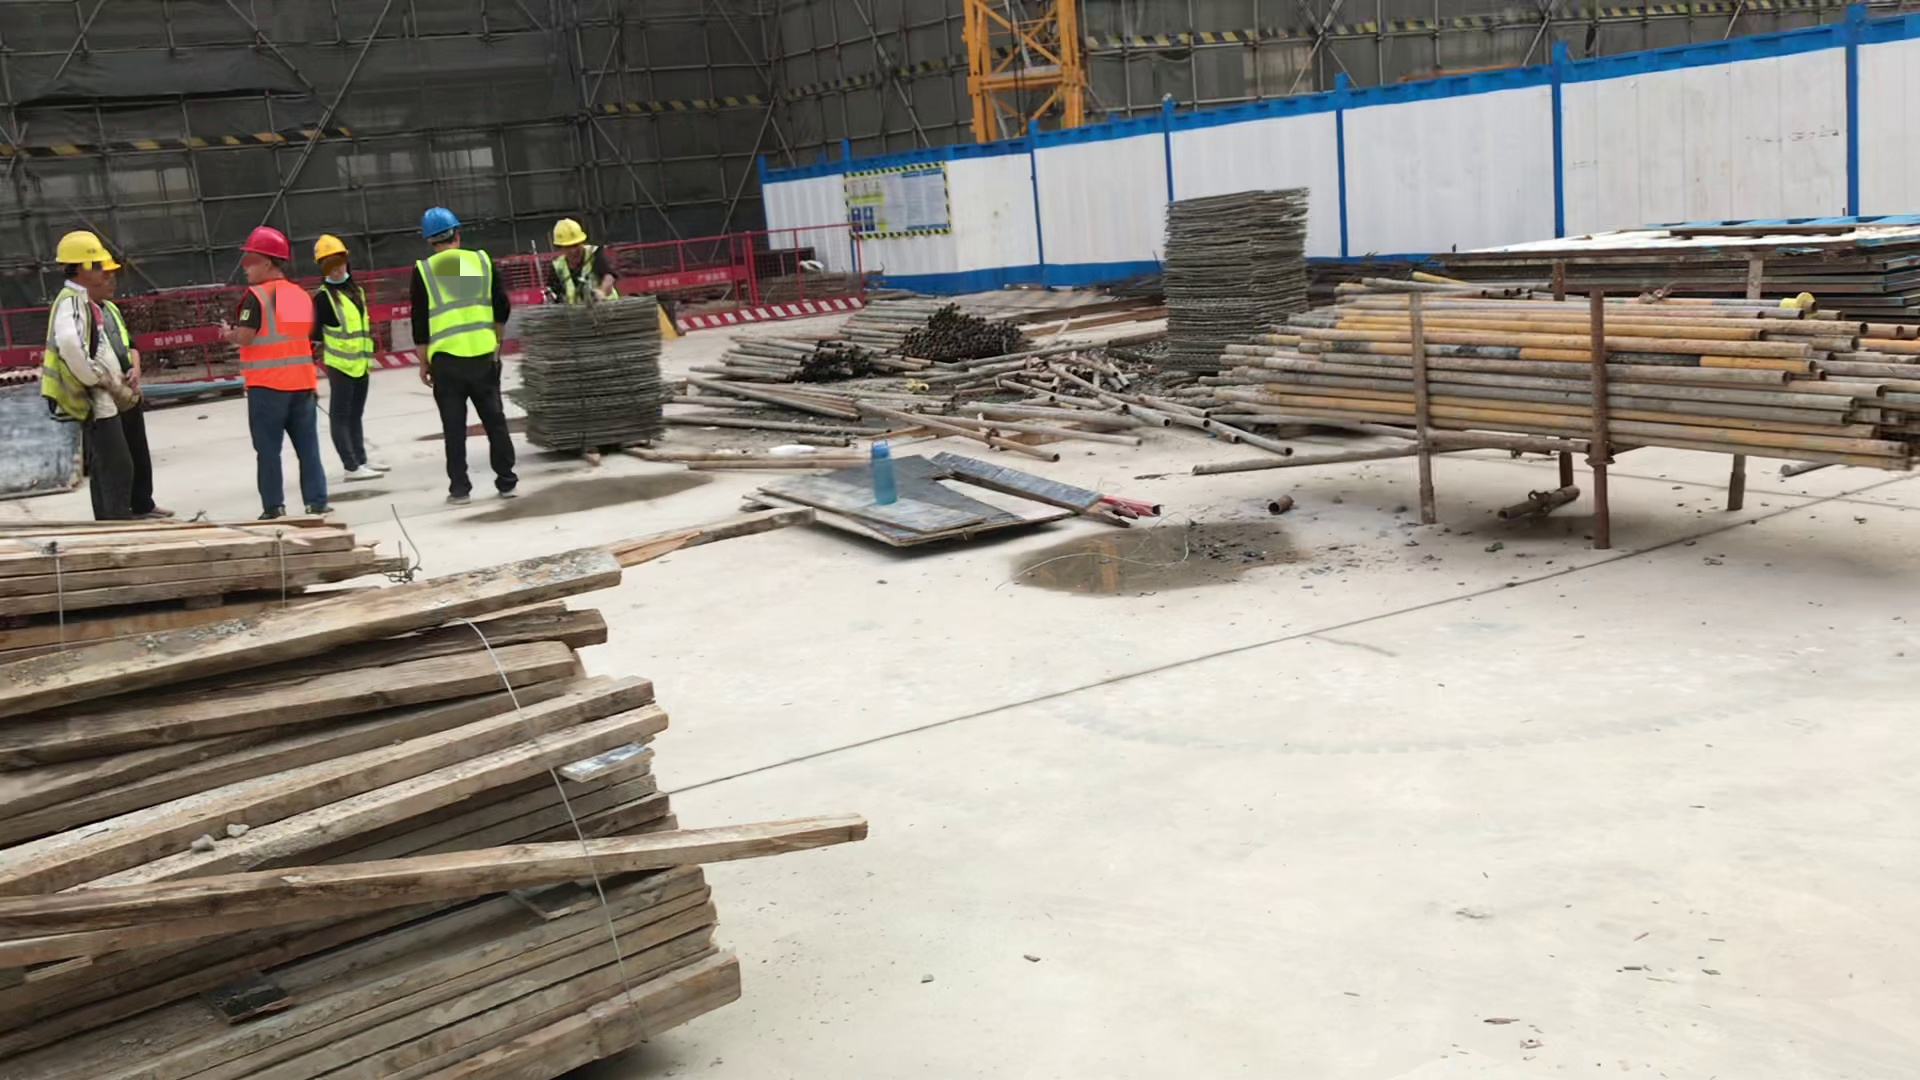helmet: (52, 231, 110, 264), (240, 228, 291, 258), (419, 207, 461, 241), (552, 222, 588, 247), (314, 236, 348, 259)
person: (404, 206, 526, 506), (32, 227, 137, 524), (228, 227, 334, 514), (308, 233, 395, 485), (546, 220, 616, 302)
vest: (416, 249, 498, 359), (239, 281, 317, 390), (37, 288, 96, 426), (323, 280, 375, 378), (555, 250, 600, 300)
